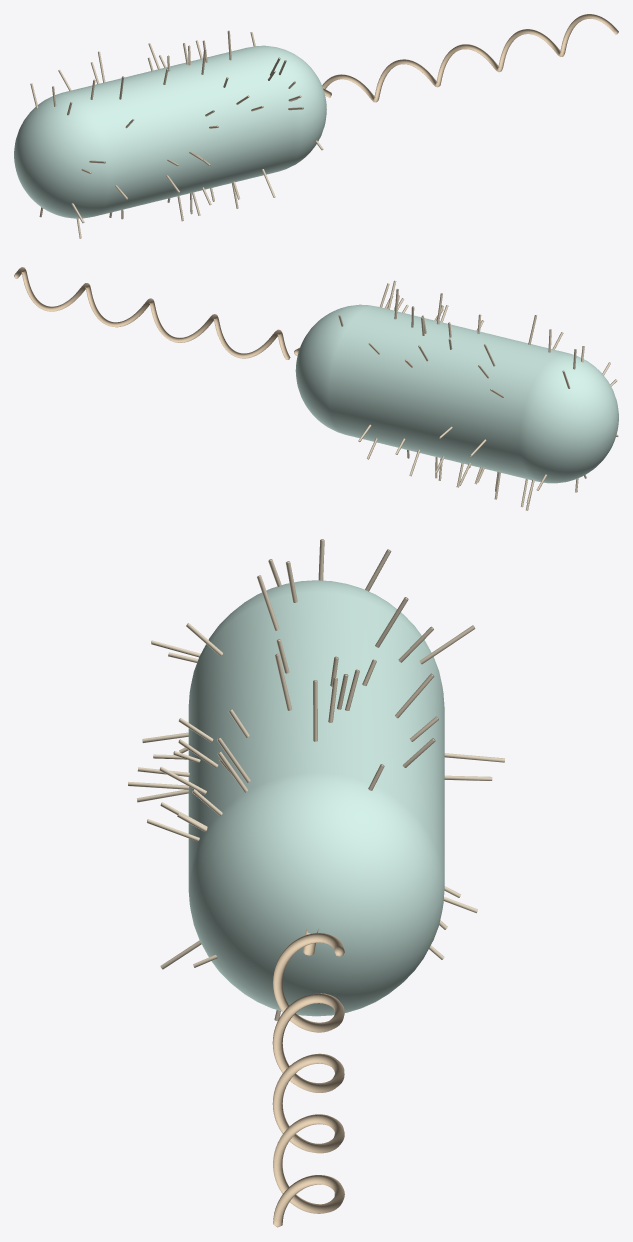
File: bacteria.glb
3 renders of one model, top to bottom at view 1: azimuth 30°, elevation 25°; view 2: azimuth 150°, elevation 25°; view 3: azimuth 270°, elevation 25°, orthographic. The views are drawn at different scales.
Parts seen in each view (by area): view 1: capsule, pili, flagellum; view 2: capsule, pili, flagellum; view 3: capsule, pili, flagellum.
Part boxes in pixels (x1,y1,x2,y2): capsule: (14, 45, 326, 218); pili: (30, 30, 323, 238); flagellum: (322, 14, 618, 102); capsule: (295, 304, 618, 483); pili: (338, 280, 618, 510); flagellum: (14, 267, 299, 359); capsule: (188, 580, 444, 1016); pili: (128, 539, 504, 1020); flagellum: (272, 929, 344, 1227).
Bounding box in the file's own units: 0.07 × 0.0198 × 0.0195.
